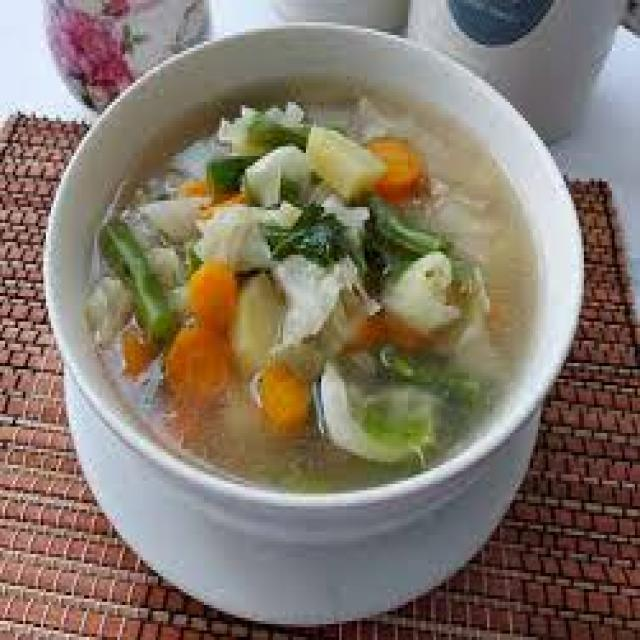sop: (59, 25, 579, 509)
